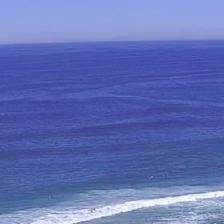surfer: (50, 195, 58, 199), (164, 174, 167, 180), (130, 182, 133, 186), (93, 208, 96, 211)
